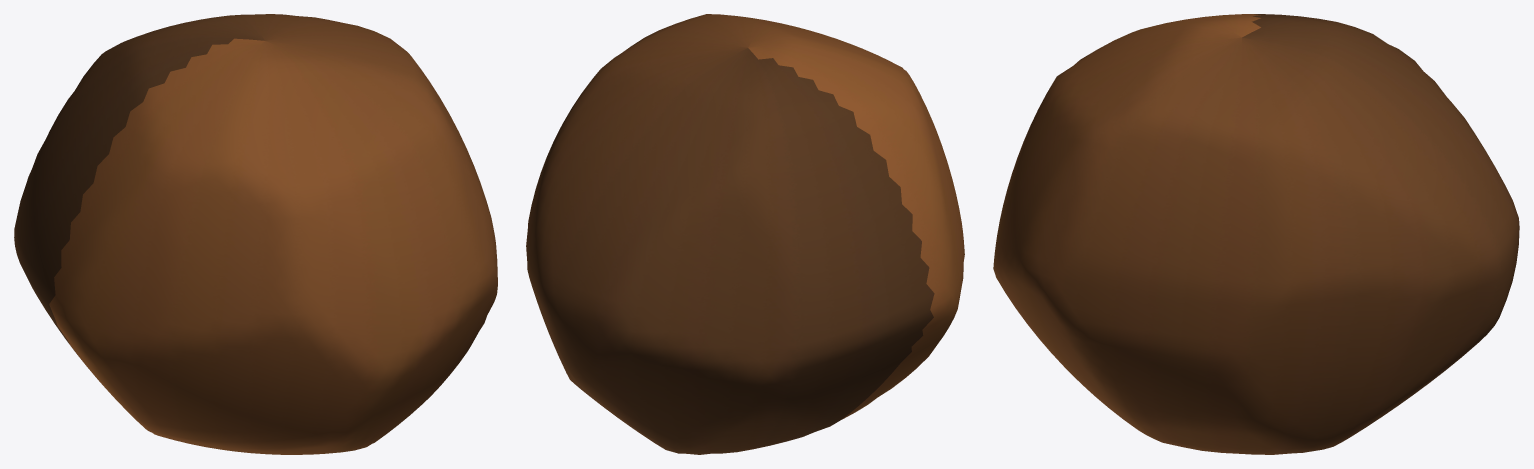
Rendered from Rock.fbx.
3 views of the same model, side by side, from view 1: azimuth 30°, elevation 25°; view 2: azimuth 150°, elevation 25°; view 3: azimuth 270°, elevation 25° (orthographic). The views are drawn at different scales.
Parts seen in each view (by area): view 1: GeoSphere001; view 2: GeoSphere001; view 3: GeoSphere001.
Part boxes in pixels (x1,y1,x2,y2): GeoSphere001: (14, 14, 497, 454); GeoSphere001: (526, 14, 964, 454); GeoSphere001: (993, 14, 1519, 454).
Bounding box in the file's own units: 34.11 × 32.66 × 40.1.
